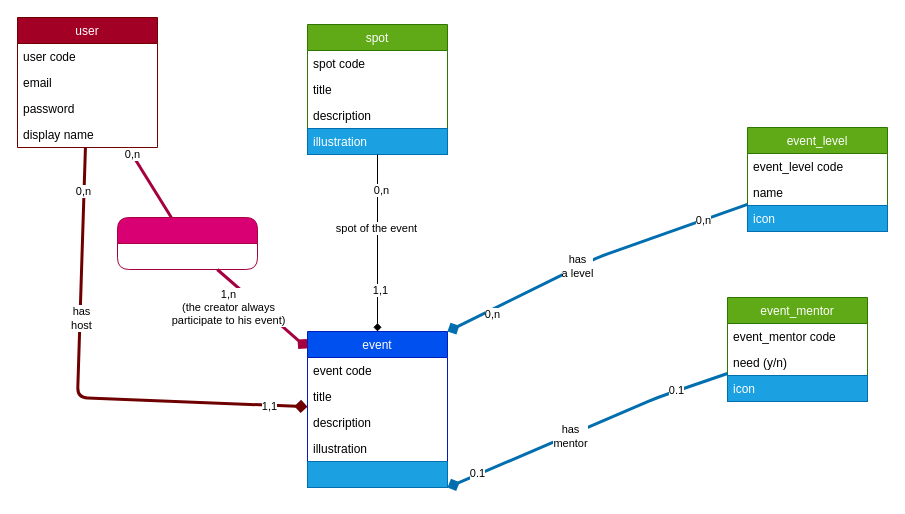
Image size: 905x514. Some labels were removed from this diagram. Here are the shapes that lost their labels. From the top down, the centre of each, then its label:
At (x=187, y=243): "participation".
At (x=377, y=474): "date".
